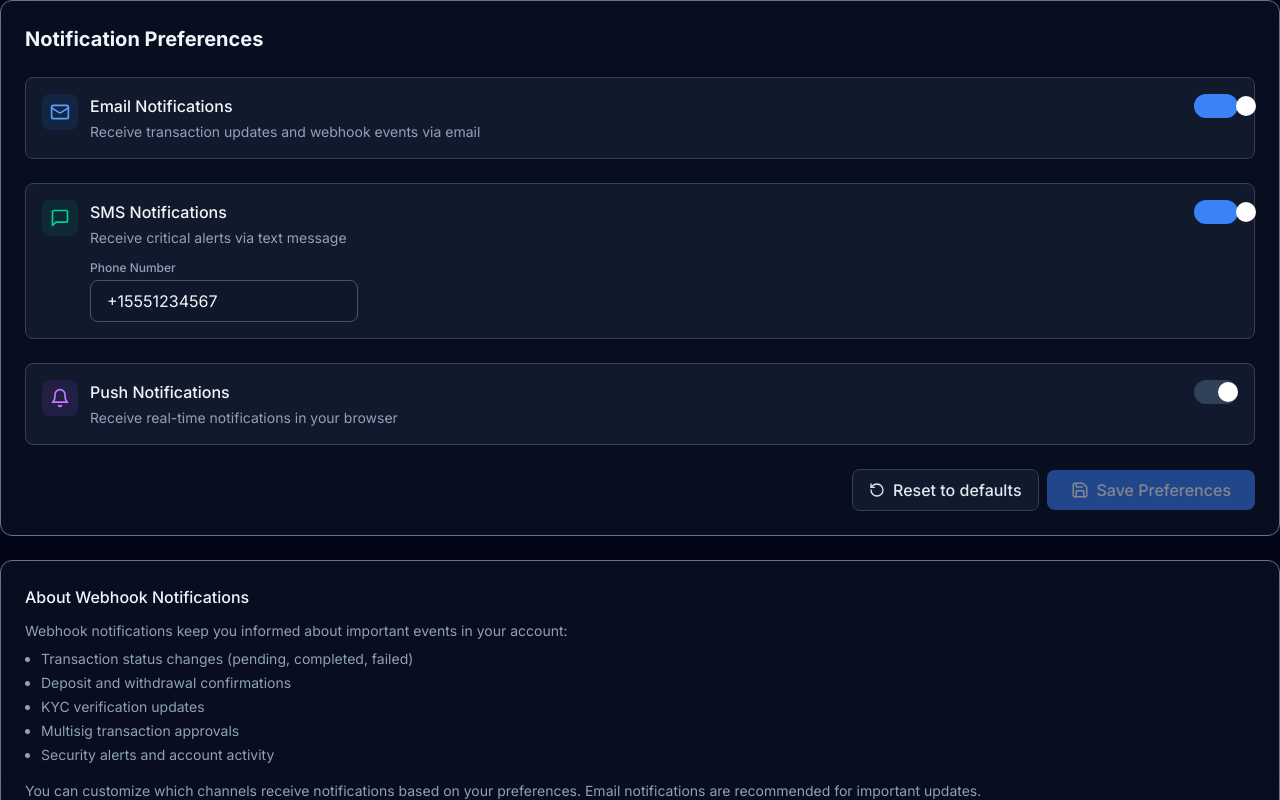
Test: NotificationPreferences saving › reports a failed save and keeps the form dirty
The image size is (1280, 800).
Expected: the heading "Notification Preferences" is shown, [25, 27, 264, 51]
Click the switch named "Toggle push notifications".
click(1216, 392)  # box [1194, 380, 1238, 404]
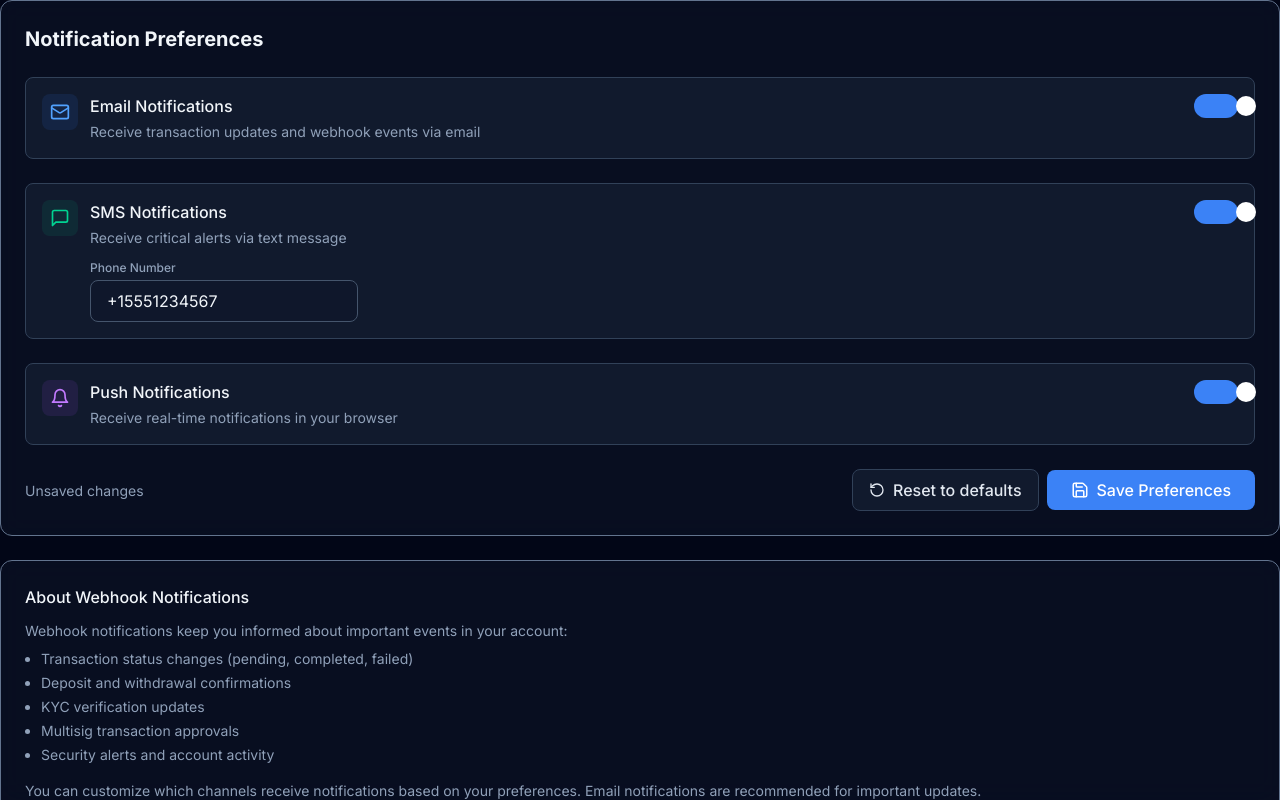
Now the button "Save Preferences" is enabled
Click the button "Save Preferences".
click(1151, 490)  # box [1046, 470, 1255, 510]
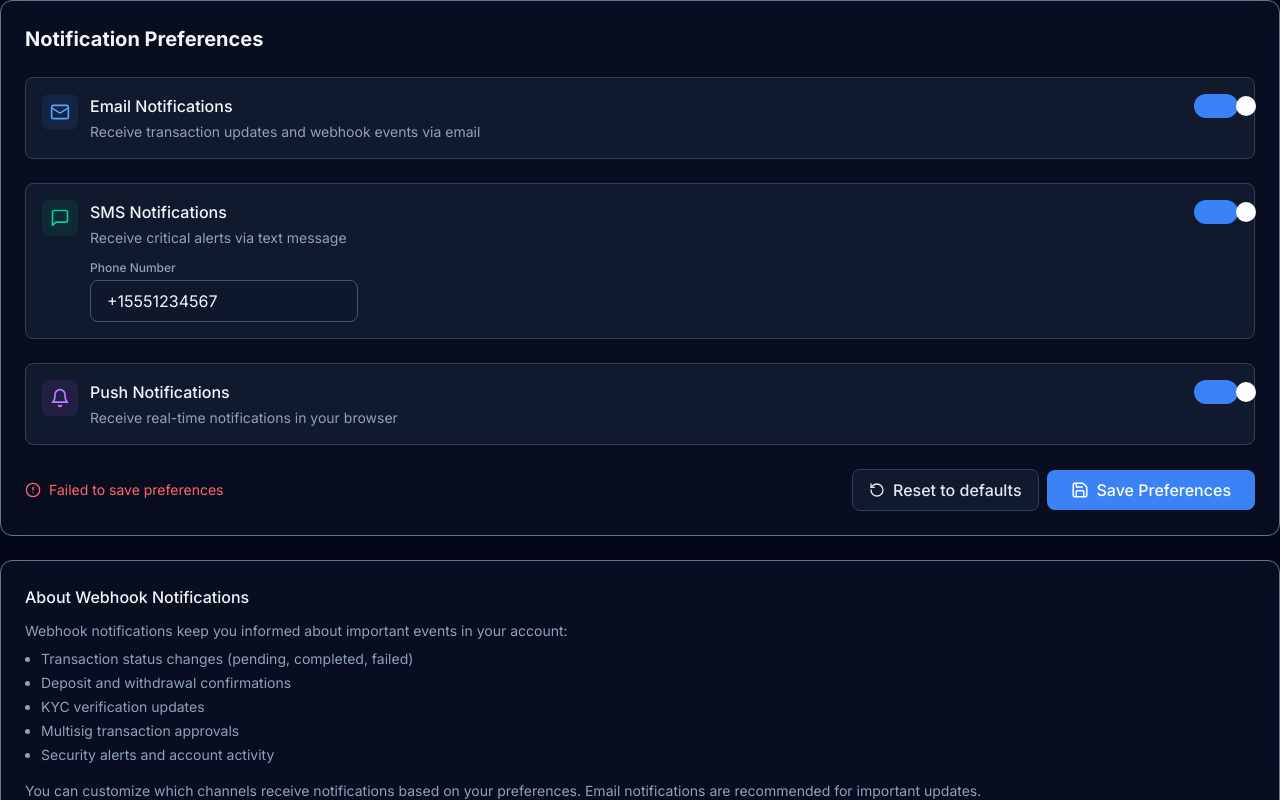
Now the button "Save Preferences" is enabled, box [1046, 470, 1255, 510]
Now the text "Failed to save preferences" is shown, box [49, 480, 224, 500]
